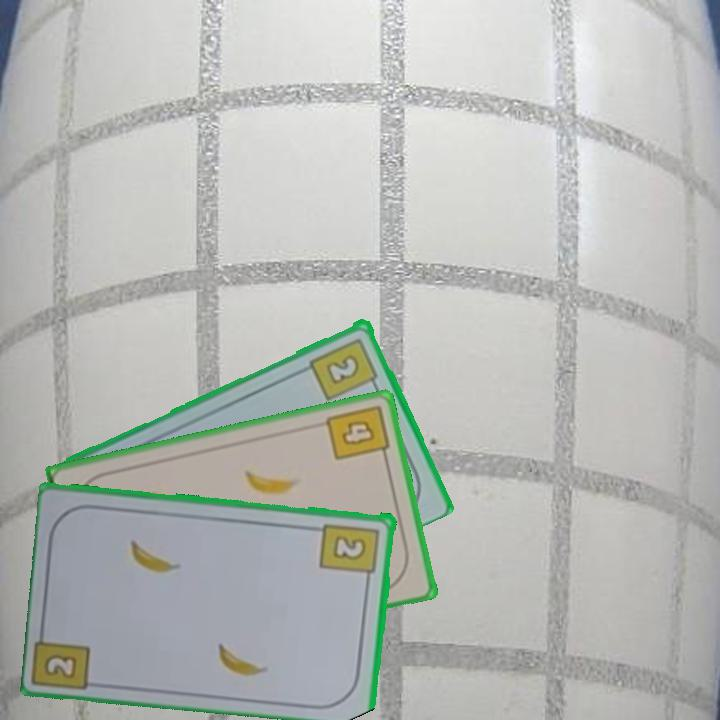2b: (306, 334, 382, 403), (318, 519, 383, 585), (44, 653, 77, 678)
4b: (322, 400, 392, 464)
